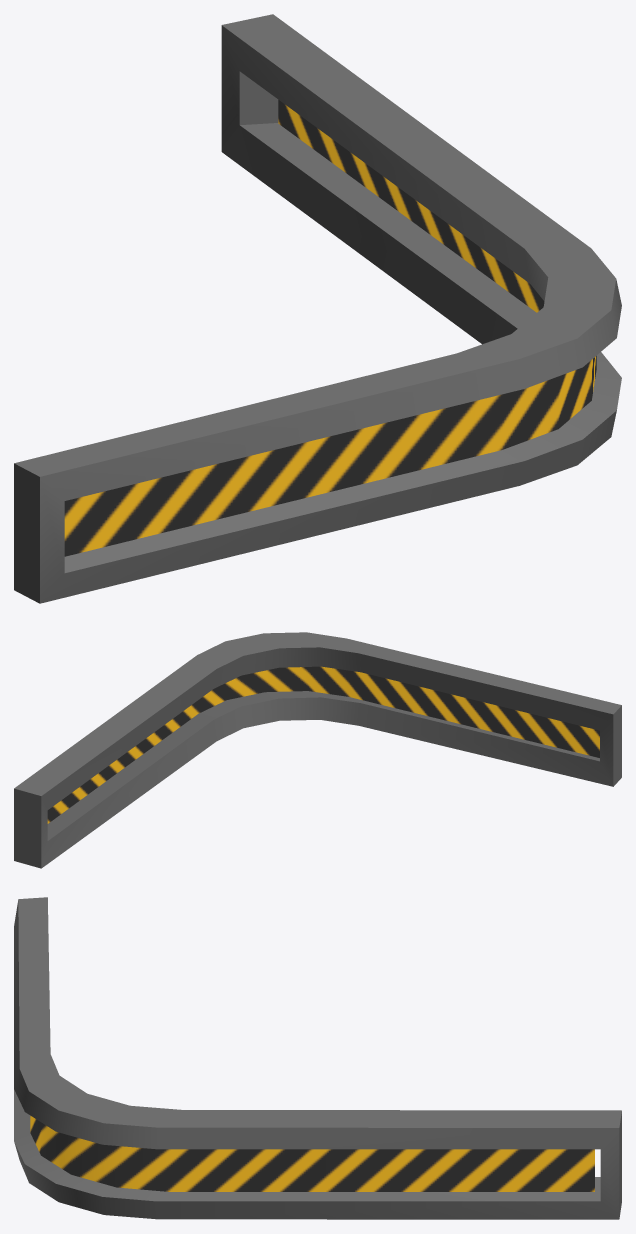
Rendered from Sign_Corner_Hazard.glb.
3 renders of one model, top to bottom at view 1: azimuth 30°, elevation 25°; view 2: azimuth 150°, elevation 25°; view 3: azimuth 270°, elevation 25°, orthographic. The views are drawn at different scales.
Parts seen in each view (by area): view 1: Sign_Corner_Hazard; view 2: Sign_Corner_Hazard; view 3: Sign_Corner_Hazard.
Part boxes in pixels (x1,y1,x2,y2): Sign_Corner_Hazard: (14,14,621,603); Sign_Corner_Hazard: (14,632,621,868); Sign_Corner_Hazard: (14,897,621,1219).
Bounding box in the file's own units: 1.09 × 0.2011 × 1.21.
2 materials, 1 textured.
